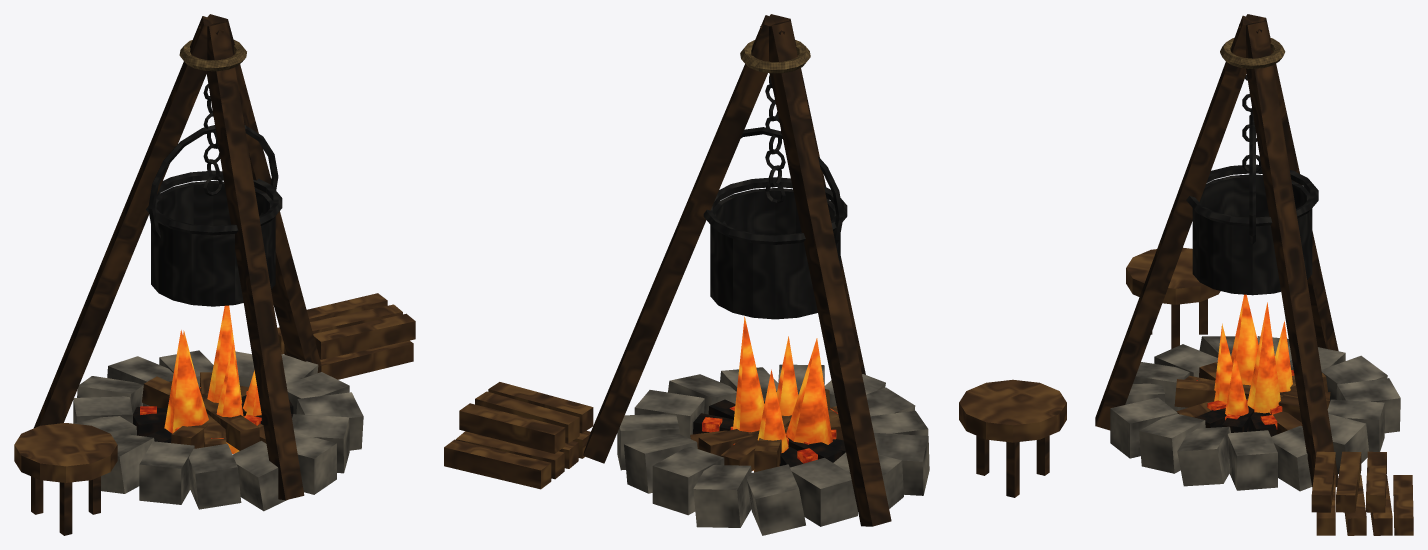
Rendered from medieval_camp_cooking_fire_3d_runtime.glb.
The picture shows the model from 3 angles, left to right: view 1: azimuth 30°, elevation 25°; view 2: azimuth 150°, elevation 25°; view 3: azimuth 270°, elevation 25°; orthographic projection. The views are drawn at different scales.
Visible parts, largest first — view 1: COOKING_FIRE_WOOD_DARK_BATCH, COOKING_FIRE_STONE_BATCH, COOKING_FIRE_WOOD_MID_BATCH, COOKING_FIRE_IRON_BATCH, COOKING_FIRE_FLAME_BATCH, COOKING_FIRE_CHARCOAL_BATCH, COOKING_FIRE_ROPE_BATCH; view 2: COOKING_FIRE_WOOD_DARK_BATCH, COOKING_FIRE_STONE_BATCH, COOKING_FIRE_WOOD_MID_BATCH, COOKING_FIRE_IRON_BATCH, COOKING_FIRE_FLAME_BATCH, COOKING_FIRE_CHARCOAL_BATCH, COOKING_FIRE_ROPE_BATCH; view 3: COOKING_FIRE_WOOD_DARK_BATCH, COOKING_FIRE_STONE_BATCH, COOKING_FIRE_WOOD_MID_BATCH, COOKING_FIRE_IRON_BATCH, COOKING_FIRE_FLAME_BATCH, COOKING_FIRE_CHARCOAL_BATCH, COOKING_FIRE_ROPE_BATCH, COOKING_FIRE_EMBER_BATCH.
Boxes of the visible parts, left/top/right/bottom form: COOKING_FIRE_WOOD_DARK_BATCH: left=31, top=14, right=321, bottom=535; COOKING_FIRE_STONE_BATCH: left=73, top=350, right=363, bottom=511; COOKING_FIRE_WOOD_MID_BATCH: left=14, top=293, right=415, bottom=482; COOKING_FIRE_IRON_BATCH: left=146, top=84, right=282, bottom=306; COOKING_FIRE_FLAME_BATCH: left=164, top=305, right=261, bottom=453; COOKING_FIRE_CHARCOAL_BATCH: left=133, top=395, right=293, bottom=442; COOKING_FIRE_ROPE_BATCH: left=179, top=39, right=246, bottom=71; COOKING_FIRE_WOOD_DARK_BATCH: left=583, top=14, right=1049, bottom=526; COOKING_FIRE_STONE_BATCH: left=617, top=364, right=929, bottom=535; COOKING_FIRE_WOOD_MID_BATCH: left=444, top=379, right=1066, bottom=489; COOKING_FIRE_IRON_BATCH: left=703, top=74, right=847, bottom=319; COOKING_FIRE_FLAME_BATCH: left=733, top=316, right=832, bottom=470; COOKING_FIRE_CHARCOAL_BATCH: left=693, top=399, right=845, bottom=467; COOKING_FIRE_ROPE_BATCH: left=740, top=40, right=810, bottom=73; COOKING_FIRE_WOOD_DARK_BATCH: left=1095, top=14, right=1338, bottom=487; COOKING_FIRE_STONE_BATCH: left=1110, top=336, right=1400, bottom=491; COOKING_FIRE_WOOD_MID_BATCH: left=1126, top=247, right=1413, bottom=535; COOKING_FIRE_IRON_BATCH: left=1186, top=74, right=1318, bottom=295; COOKING_FIRE_FLAME_BATCH: left=1214, top=294, right=1292, bottom=415; COOKING_FIRE_CHARCOAL_BATCH: left=1195, top=406, right=1276, bottom=436; COOKING_FIRE_ROPE_BATCH: left=1220, top=38, right=1285, bottom=68; COOKING_FIRE_EMBER_BATCH: left=1196, top=369, right=1294, bottom=429.
Size of the model in its own units: 3.23 by 2.85 by 1.99.
8 materials, 8 textured.
